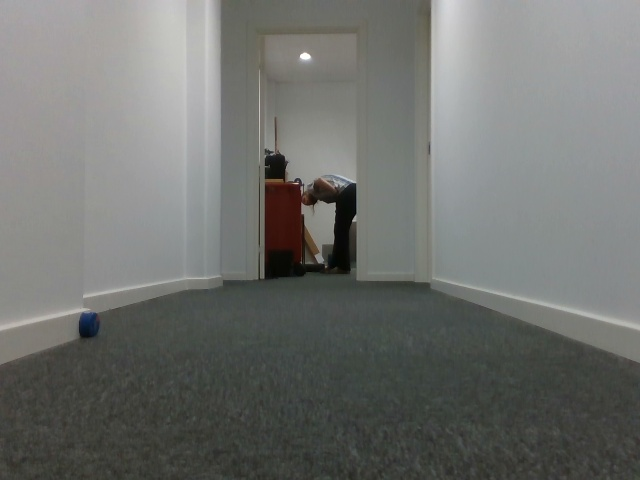alfa: (77, 308, 100, 341)
